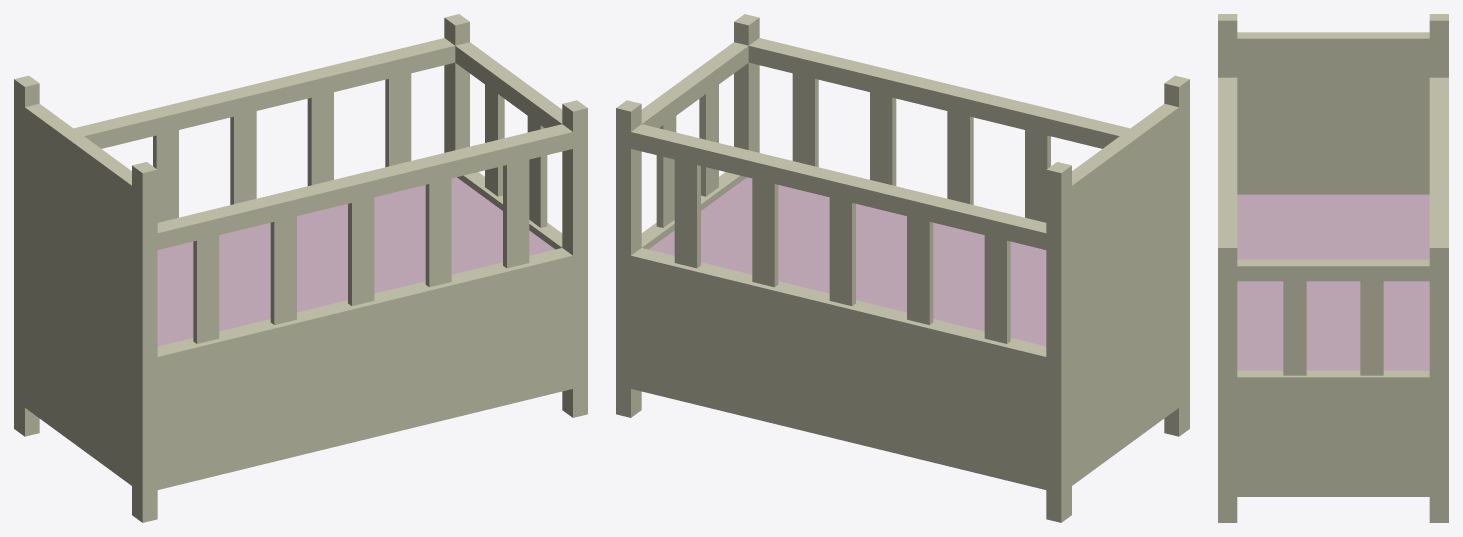
The model's file is crib.fbx.
3 views of the same model, side by side, from view 1: azimuth 30°, elevation 25°; view 2: azimuth 150°, elevation 25°; view 3: azimuth 270°, elevation 25° (orthographic). The views are drawn at different scales.
Parts seen in each view (by area): view 1: crib; view 2: crib; view 3: crib.
Part boxes in pixels (x1,y1,x2,y2): crib: (14, 14, 587, 522); crib: (616, 14, 1189, 522); crib: (1218, 14, 1448, 522).
Bounding box in the file's own units: 480 × 360 × 240.
